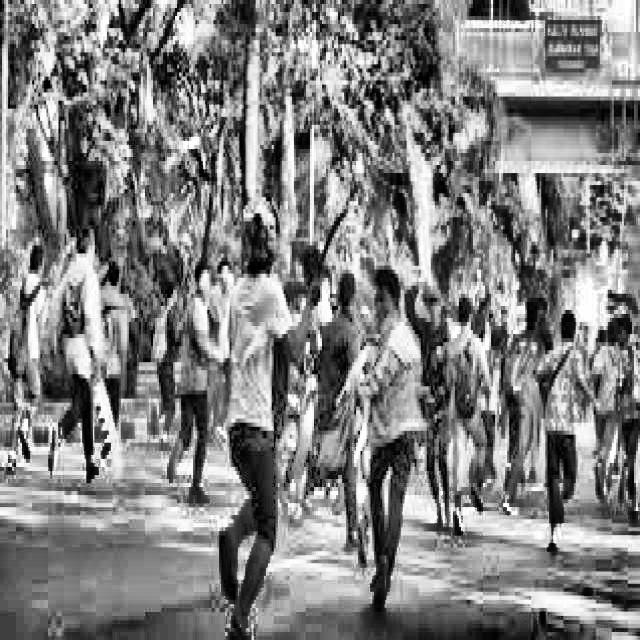robbery: (2, 186, 639, 639)
